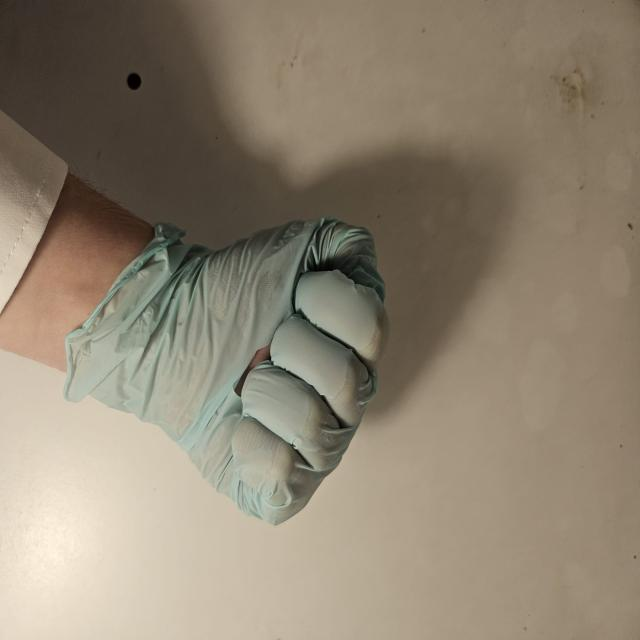gloves_damaged: (59, 212, 397, 522)
